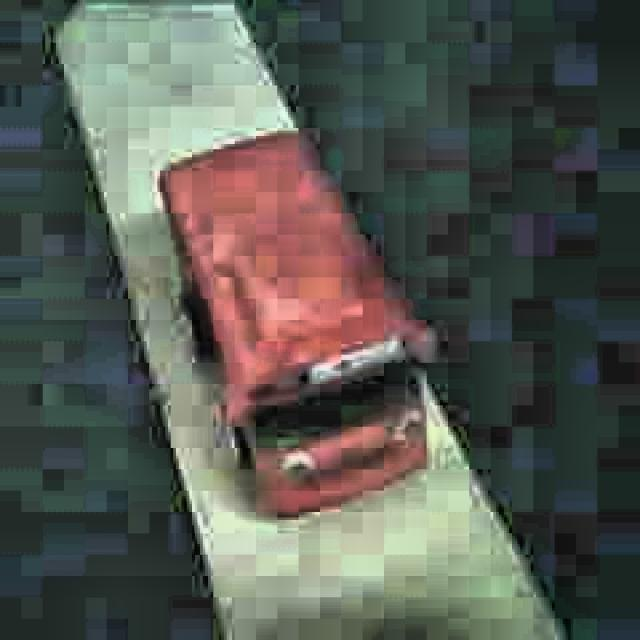bus: (158, 129, 430, 519)
